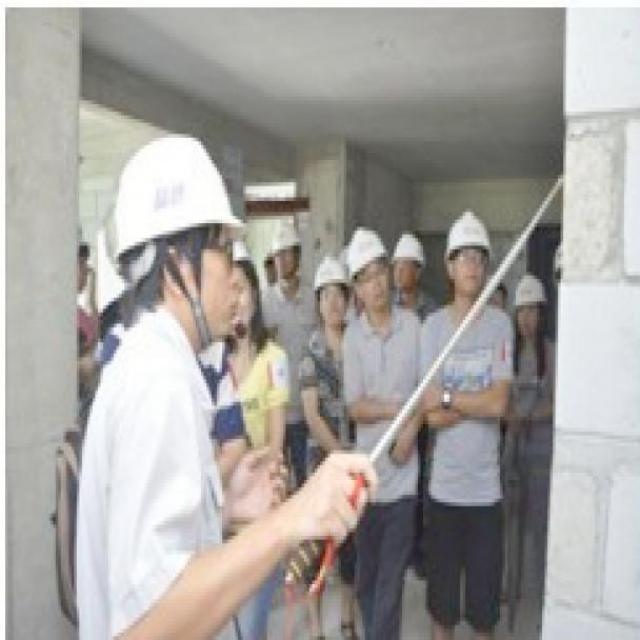helmet: (103, 130, 252, 328), (447, 204, 497, 305), (344, 219, 388, 305), (315, 238, 346, 324), (389, 224, 423, 290)
